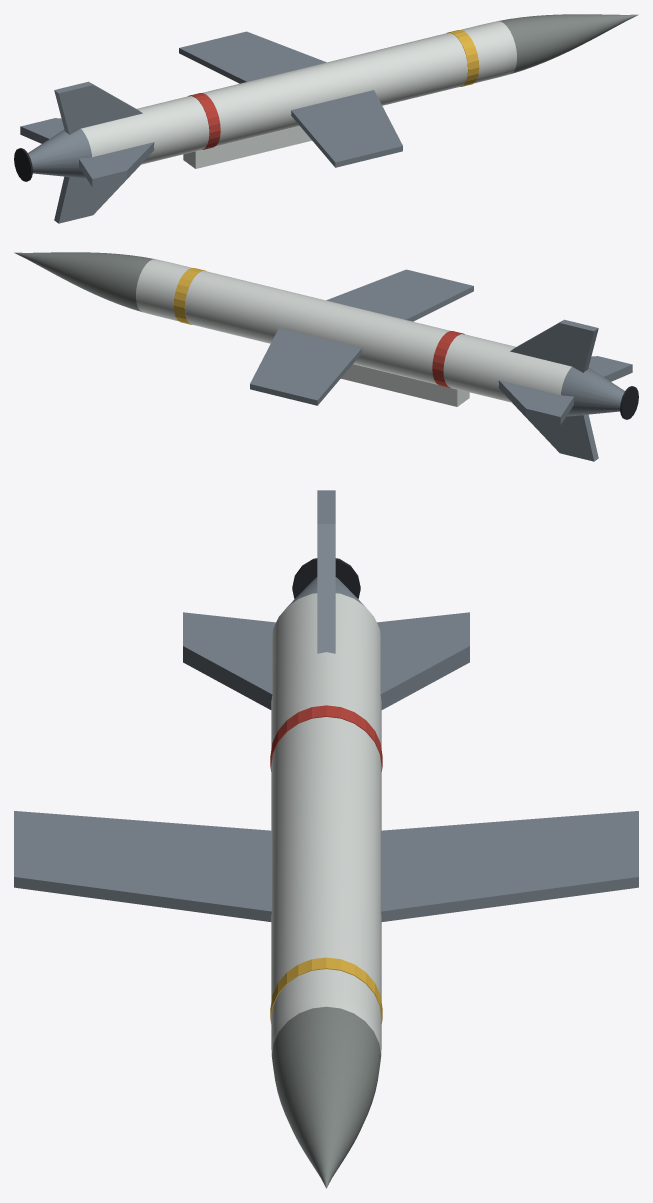
File: pla_yj82.glb
3 views of the same model, one above another, from view 1: azimuth 30°, elevation 25°; view 2: azimuth 150°, elevation 25°; view 3: azimuth 270°, elevation 25° (orthographic). The views are drawn at different scales.
Visible parts, largest first — view 1: missile_body, titanium, seeker, hazard_red, marking_yellow, rubber; view 2: missile_body, titanium, seeker, hazard_red, marking_yellow, rubber; view 3: titanium, missile_body, seeker, hazard_red, marking_yellow, rubber.
Boxes of the visible parts, left/top/right/bottom form: missile_body: left=81, top=21, right=516, bottom=168; titanium: left=20, top=31, right=402, bottom=223; seeker: left=498, top=14, right=638, bottom=73; hazard_red: left=188, top=93, right=220, bottom=149; marking_yellow: left=446, top=30, right=479, bottom=86; rubber: left=14, top=148, right=32, bottom=181; missile_body: left=136, top=259, right=571, bottom=406; titanium: left=250, top=269, right=632, bottom=461; seeker: left=14, top=252, right=154, bottom=311; hazard_red: left=432, top=331, right=464, bottom=387; marking_yellow: left=173, top=268, right=206, bottom=324; rubber: left=620, top=386, right=638, bottom=419; titanium: left=14, top=490, right=638, bottom=921; missile_body: left=271, top=593, right=381, bottom=1055; seeker: left=271, top=1006, right=381, bottom=1188; hazard_red: left=270, top=705, right=382, bottom=771; marking_yellow: left=270, top=957, right=382, bottom=1023; rubber: left=292, top=558, right=360, bottom=598.
Size of the model in its own units: 10 by 2.02 by 4.4.
